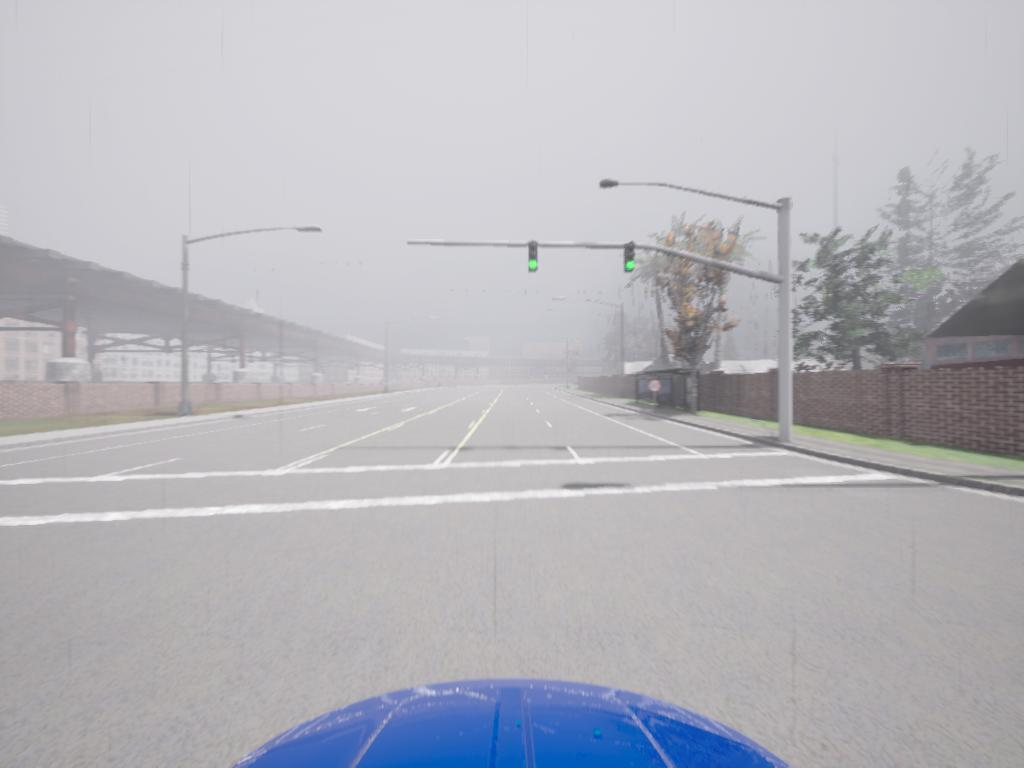traffic_light: (626, 244, 640, 273), (530, 244, 542, 275)
